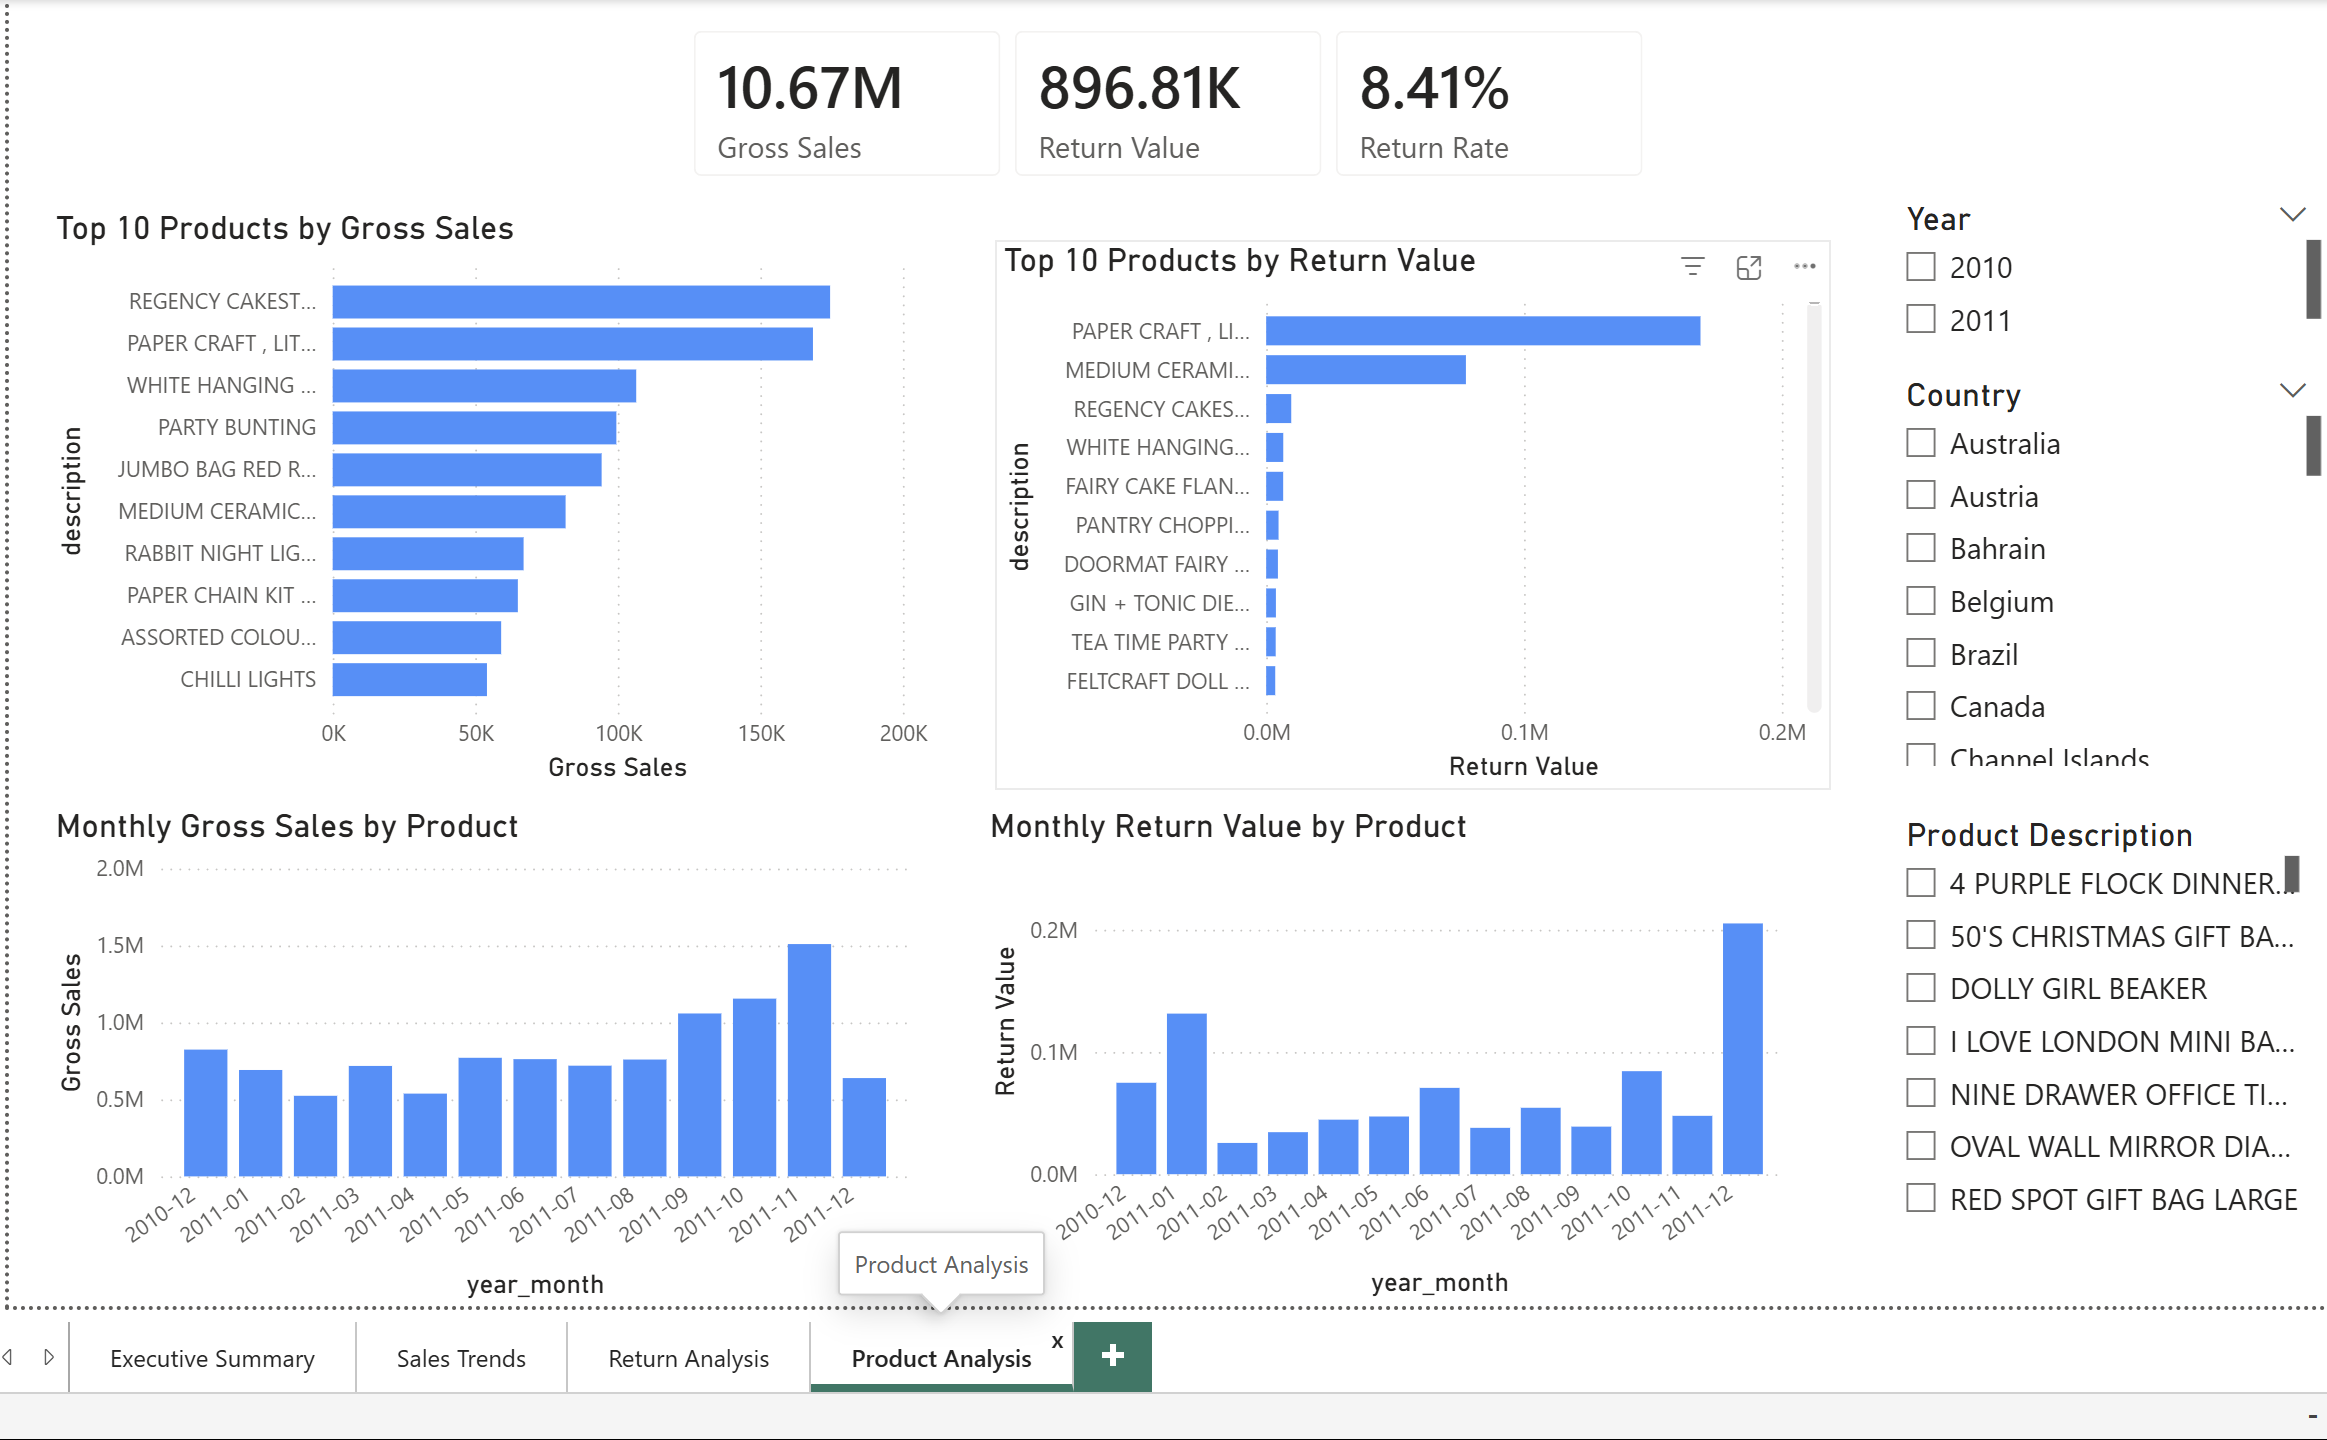

This screenshot's page, from the dashboard's own definition file:
{"tool":"powerbi","page":{"name":"Product Analysis","canvas":[1280,720],"ordinal":3},"visuals":[{"type":"cardVisual","fields":{"Data":["public v_fact_transactions_model_v2.Gross Sales","public v_fact_transactions_model_v2.Return Value","public v_fact_transactions_model_v2.Return Rate"]},"box":[360.9,0,558.2,114.3],"z":0},{"type":"clusteredBarChart","title":"Top 10 Products by Gross Sales","fields":{"Category":["public dim_product_v2.description"],"Y":["public v_fact_transactions_model_v2.Gross Sales"]},"box":[20.5,114.3,490.8,321.2],"z":1000},{"type":"clusteredBarChart","title":"Top 10 Products by Return Value","fields":{"Category":["public dim_product_v2.description"],"Y":["public v_fact_transactions_model_v2.Return Value"]},"box":[543.8,132.3,460.8,303.2],"z":1001},{"type":"clusteredColumnChart","title":"Monthly Gross Sales by Product","fields":{"Category":["public dim_date.year_month"],"Y":["public v_fact_transactions_model_v2.Gross Sales"]},"box":[20.5,443.9,480,276.7],"z":1002},{"type":"clusteredColumnChart","title":"Monthly Return Value by Product","fields":{"Category":["public dim_date.year_month"],"Y":["public v_fact_transactions_model_v2.Return Value"]},"box":[535.3,443.9,447.5,275.5],"z":1003},{"type":"slicer","fields":{"Values":["public dim_date.year"]},"box":[1033.4,104.7,246.6,87.8],"z":1004},{"type":"slicer","fields":{"Values":["public dim_country.country"]},"box":[1033.4,202.1,246.6,225],"z":1005},{"type":"slicer","fields":{"Values":["public dim_product_v2.description"]},"box":[1033.4,443.9,234.6,239.4],"z":1006}]}

Visuals, with their boxes on the page's 1280x720 design canvas (x1, y1, x2, y2). These are canvas units, not pixel positions in the 2327x1440 screenshot, which may show the page scaled, cropped or inside an application window:
cardVisual - public v_fact_transactions_model_v2.Gross Sales x public v_fact_transactions_model_v2.Return Value: 361,0,919,114
"Top 10 Products by Gross Sales" clusteredBarChart: 20,114,511,436
"Top 10 Products by Return Value" clusteredBarChart: 544,132,1005,436
"Monthly Gross Sales by Product" clusteredColumnChart: 20,444,500,721
"Monthly Return Value by Product" clusteredColumnChart: 535,444,983,719
slicer - public dim_date.year: 1033,105,1280,192
slicer - public dim_country.country: 1033,202,1280,427
slicer - public dim_product_v2.description: 1033,444,1268,683
